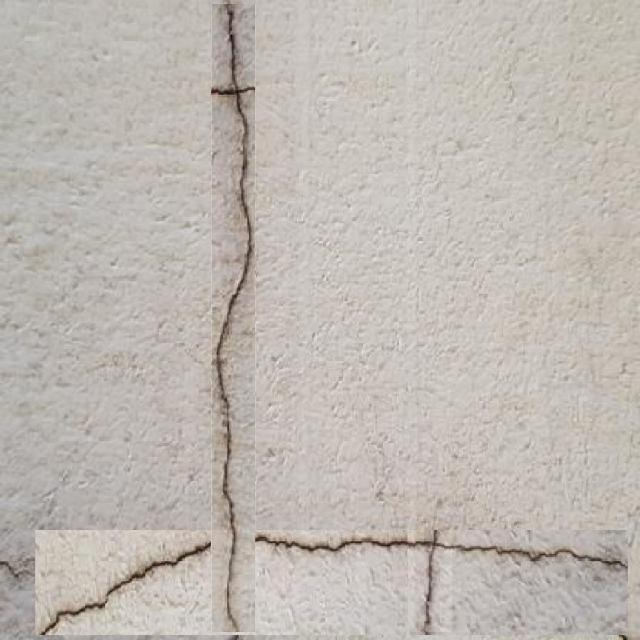horizontal crack: (36, 530, 628, 635), (200, 76, 262, 113)
vertical crack: (212, 4, 255, 632), (417, 513, 450, 640)
